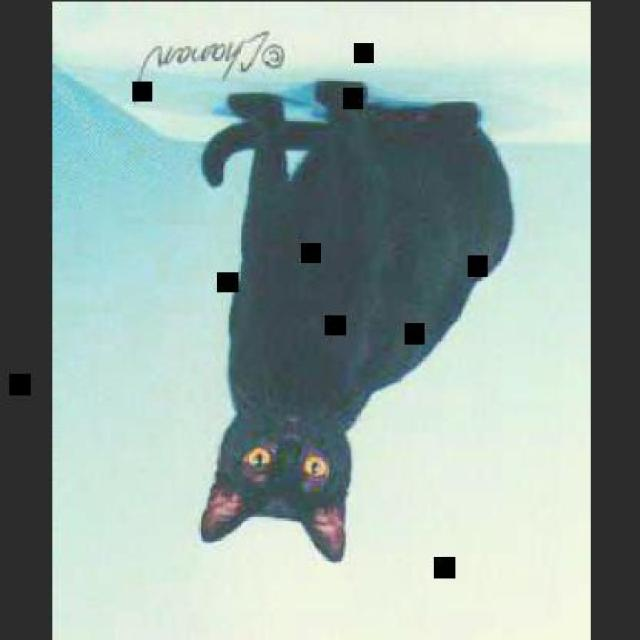unauthorized: (197, 79, 514, 562)
